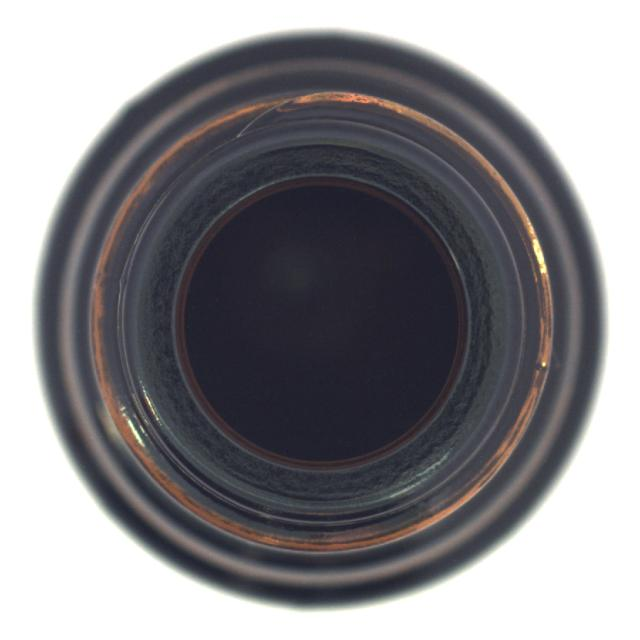bottle-good: (32, 31, 594, 606)
